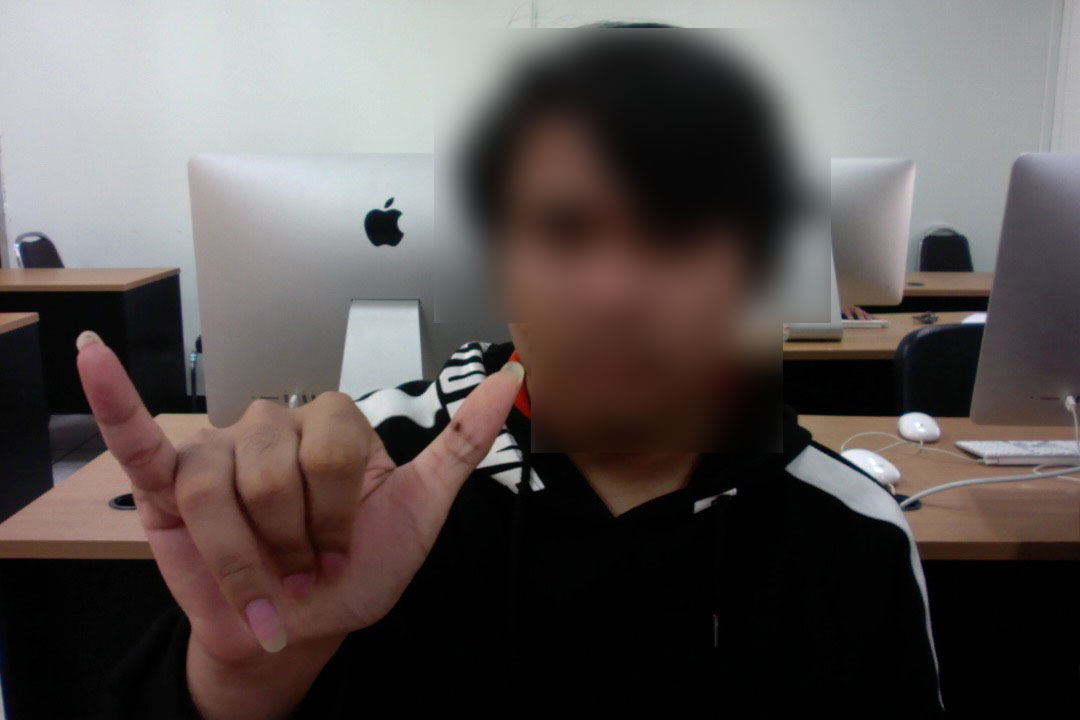yor: (60, 320, 531, 675)
